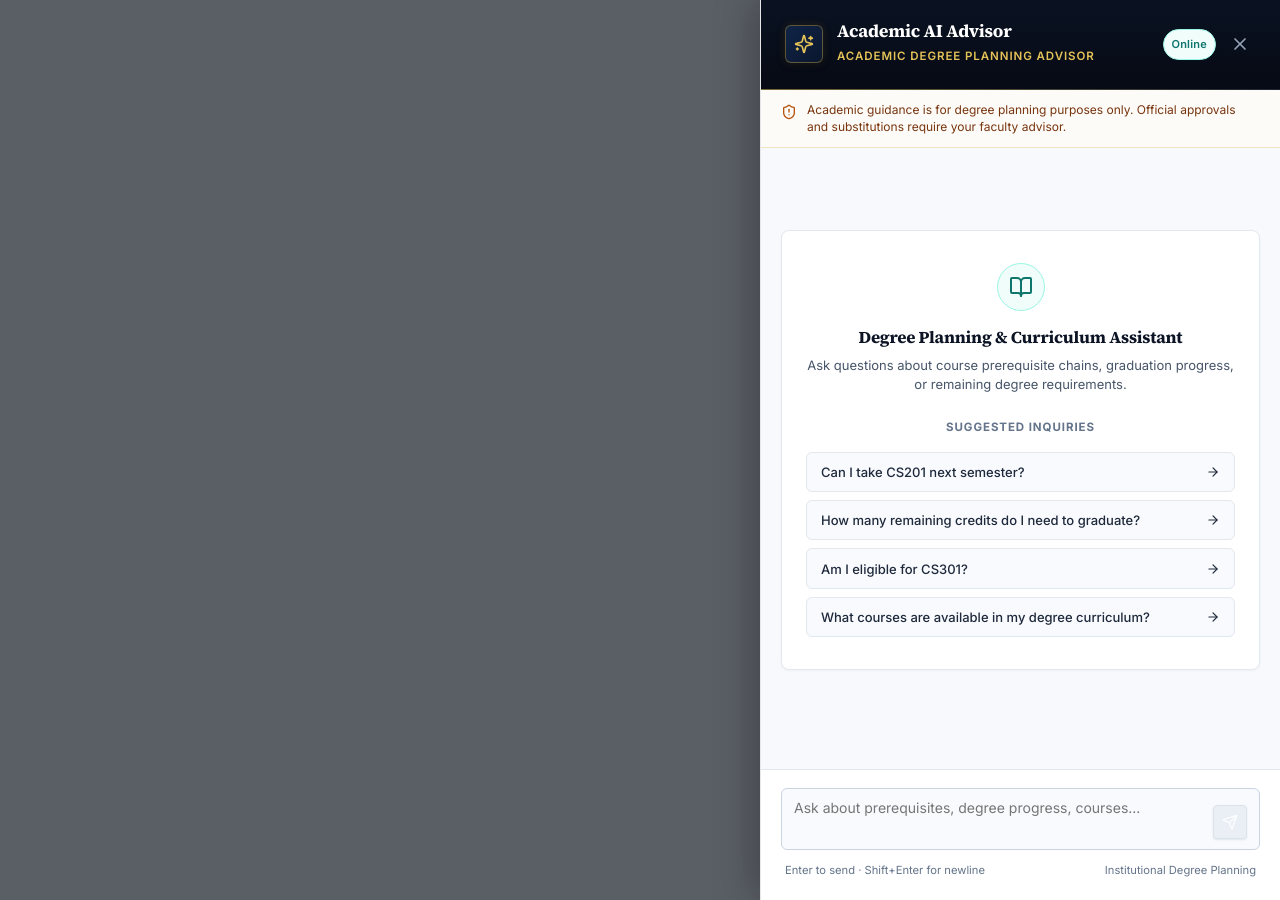
Test case: AssistantDrawer › submits a user question and displays grounded response with citations
The image size is (1280, 900).
Type "Can I take CS201 next semester?" into the text box with placeholder "Ask about prerequisites, degree progress, courses..." at (1000, 819), box [794,798,1205,839]
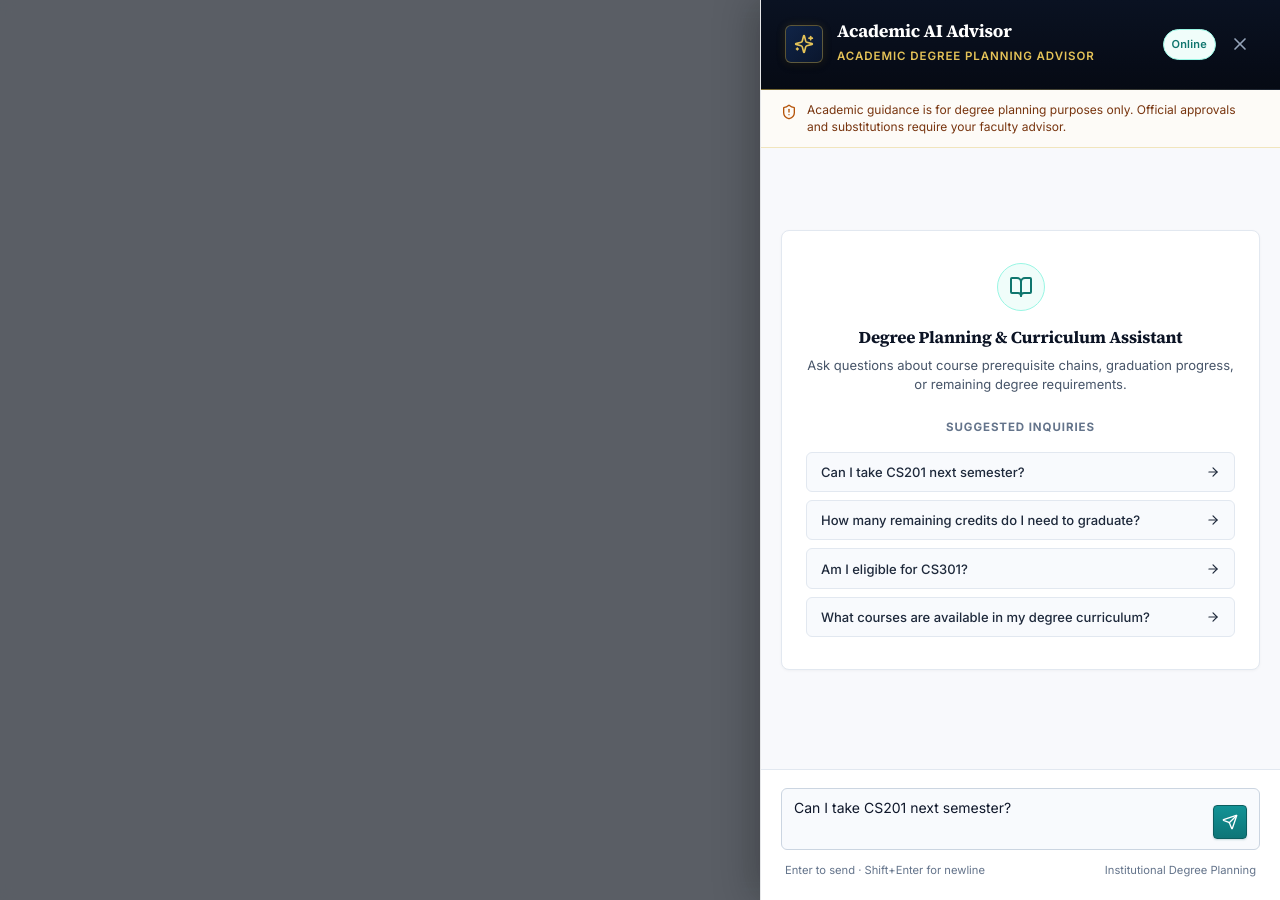
Click the button named "Send query" at (1230, 822), box [1213,805,1247,839]
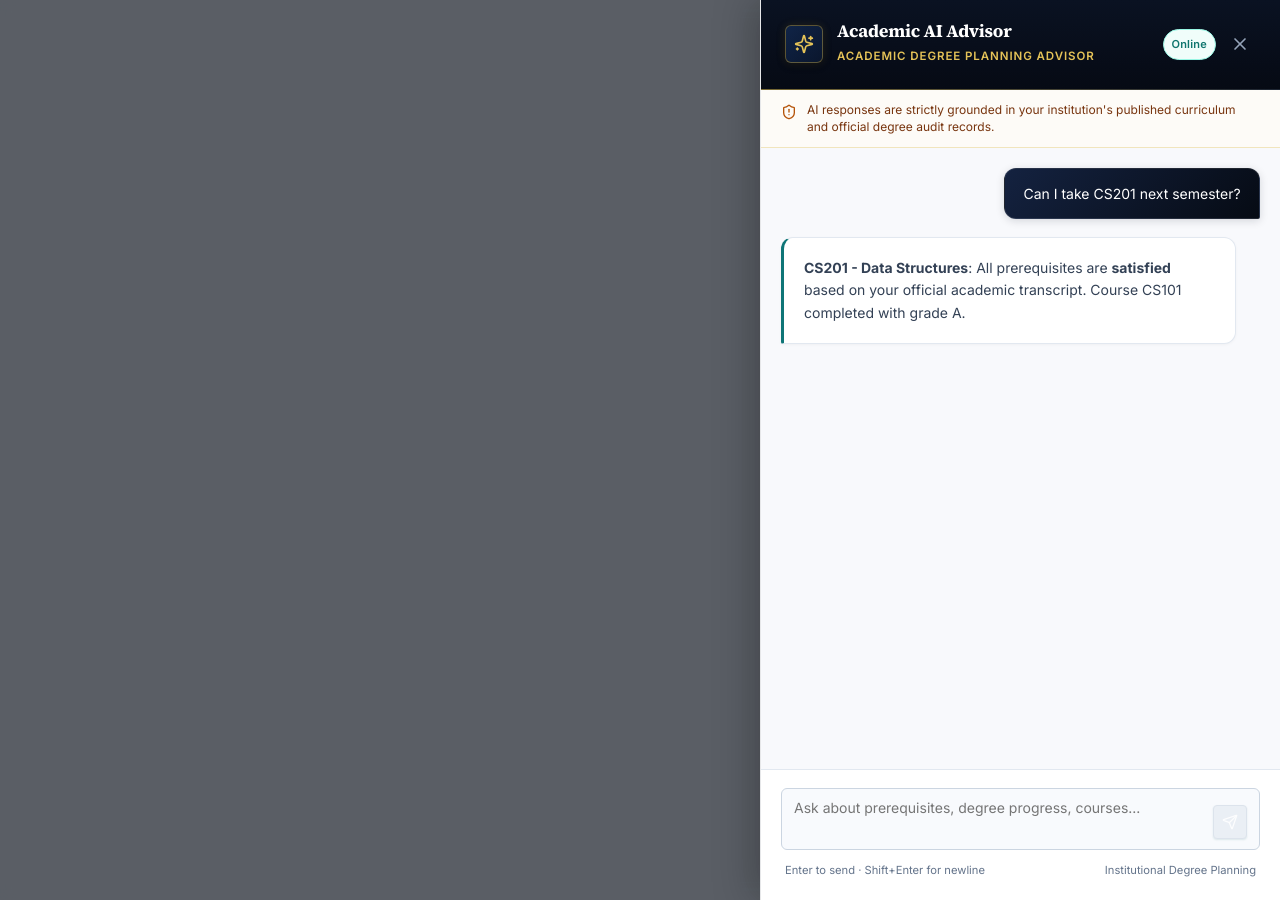
Expected: the text "Can I take CS201 next semester?" is shown, [1004,168,1260,219]
Expected: the text "All prerequisites are" is shown, [968,259,1112,276]
